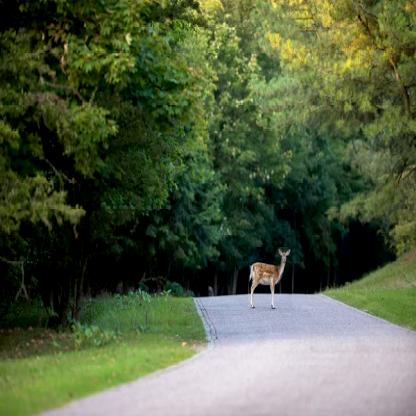Deer: (248, 247, 292, 310)
